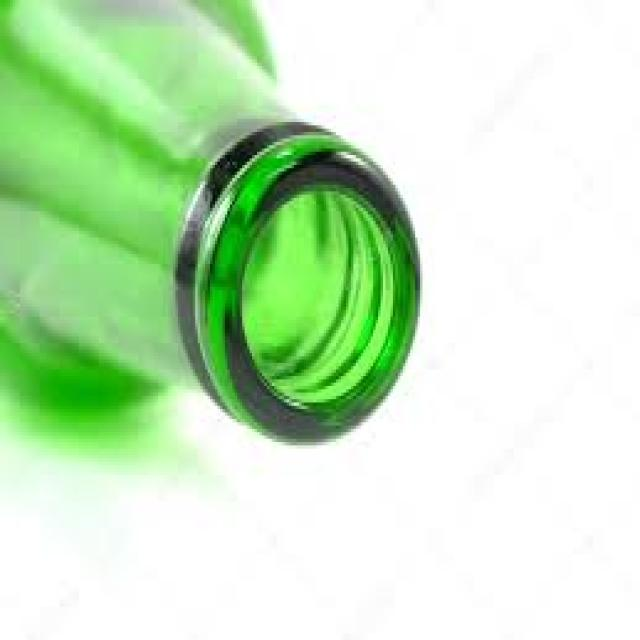glass: (0, 0, 418, 442)
